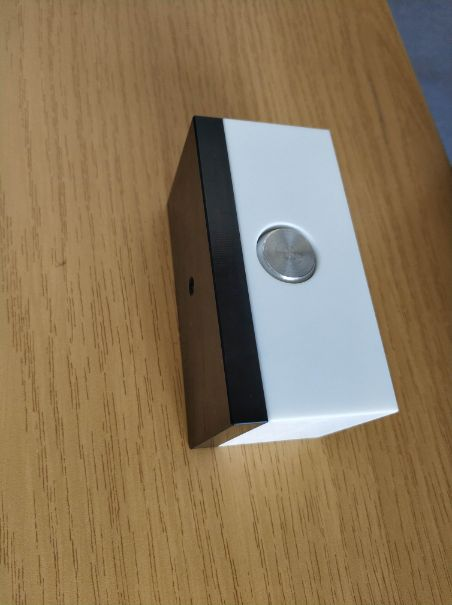black+white+silver: (159, 111, 403, 453)
